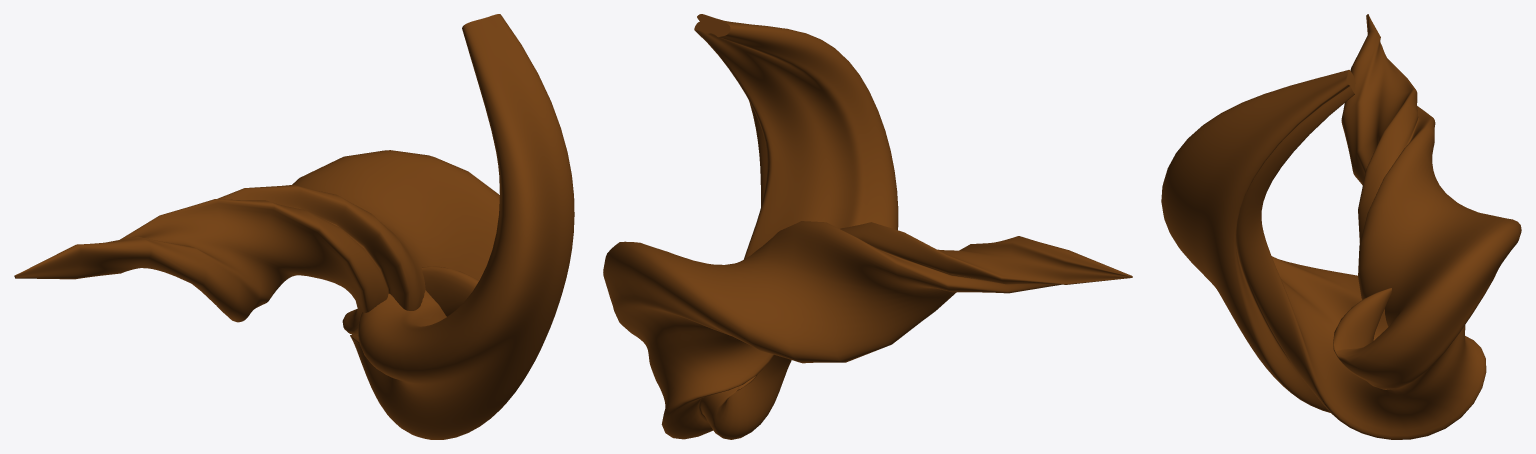
File: Branch_03.fbx
3 views of the same model, side by side, from view 1: azimuth 30°, elevation 25°; view 2: azimuth 150°, elevation 25°; view 3: azimuth 270°, elevation 25° (orthographic). The views are drawn at different scales.
Parts seen in each view (by area): view 1: NurbsPath.005; view 2: NurbsPath.005; view 3: NurbsPath.005.
Boxes of the visible parts, <box> form: NurbsPath.005: <box>14,14,574,439</box>; NurbsPath.005: <box>603,14,1132,439</box>; NurbsPath.005: <box>1161,14,1521,439</box>.
Size of the model in its own units: 206 by 154 by 136.
